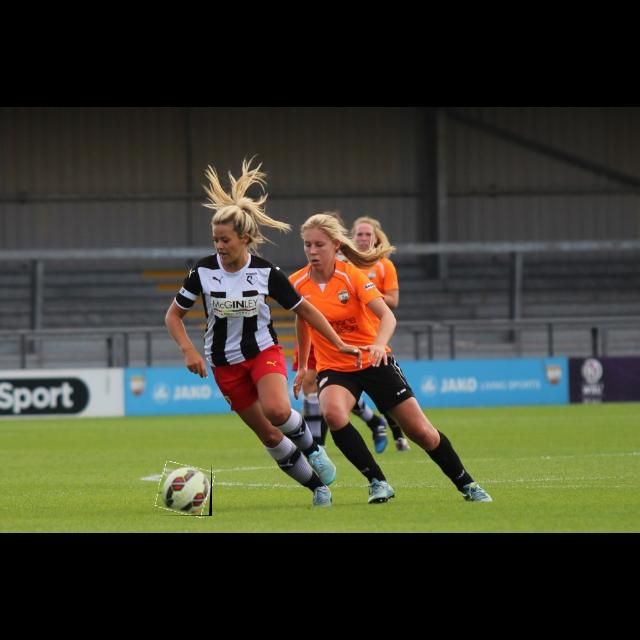Football: (158, 464, 212, 516)
